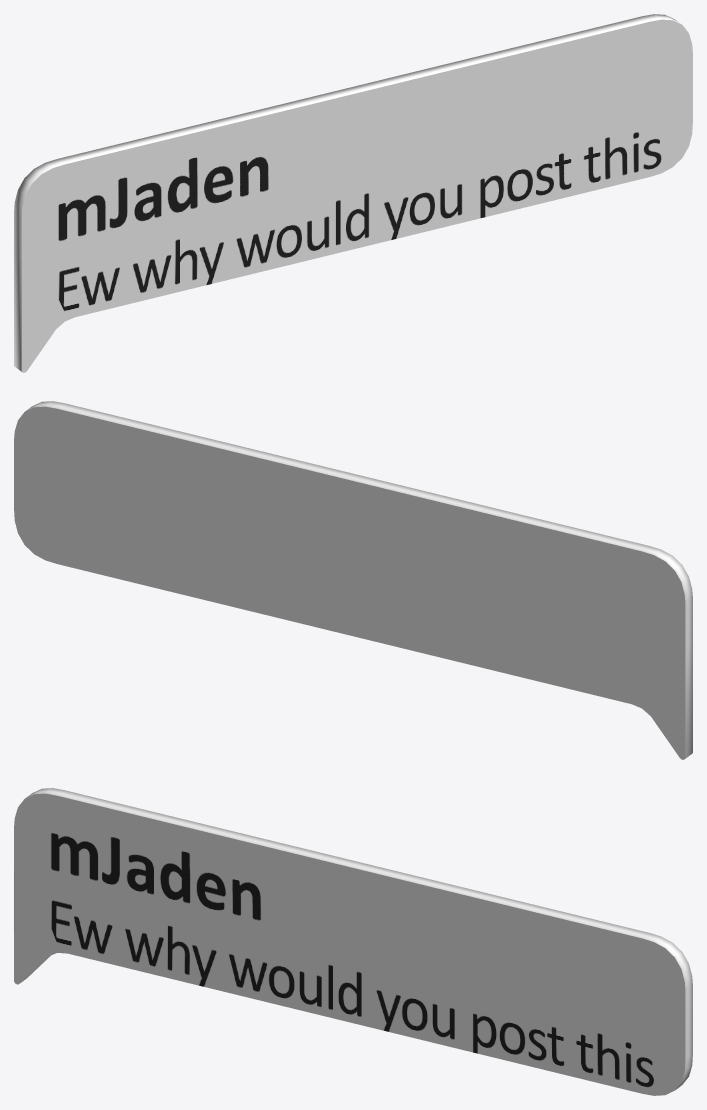
Rendered from OLDEp5_Message-A.fbx.
3 views of the same model, one above another, from view 1: azimuth 30°, elevation 25°; view 2: azimuth 150°, elevation 25°; view 3: azimuth 330°, elevation 25° (orthographic).
Visible parts, largest first — view 1: Messages-A; view 2: Messages-A; view 3: Messages-A.
Boxes of the visible parts, bbox=[...] form: Messages-A: bbox=[14, 14, 692, 372]; Messages-A: bbox=[14, 401, 692, 759]; Messages-A: bbox=[14, 788, 692, 1095].
Bounding box in the file's own units: 1619 × 458 × 31.43.
